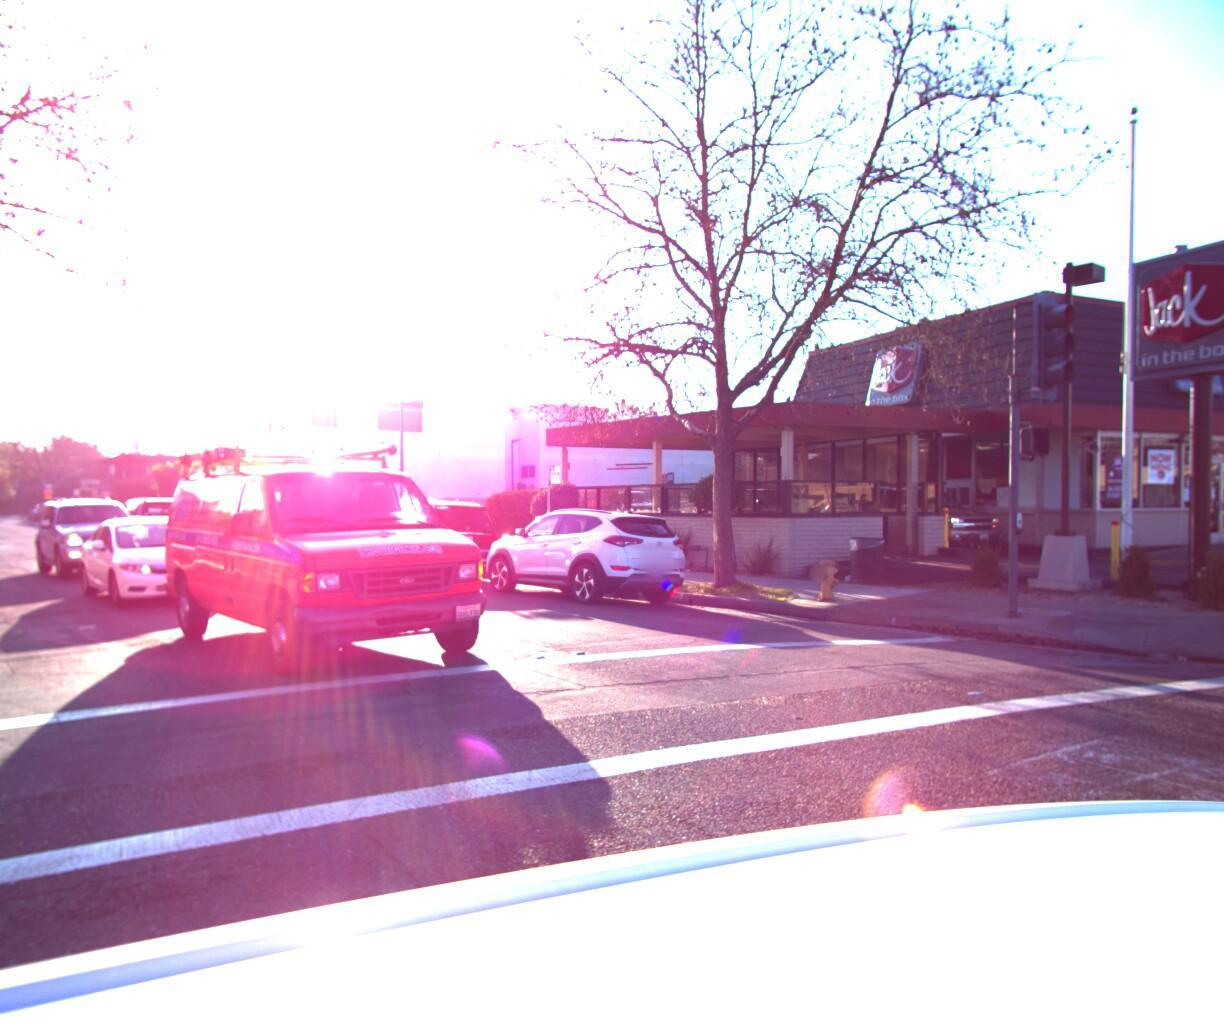car: (139, 449, 517, 718), (489, 506, 713, 605), (67, 513, 249, 623), (340, 494, 516, 586), (829, 474, 1019, 556), (26, 492, 161, 583), (100, 498, 199, 552), (38, 501, 69, 520)
